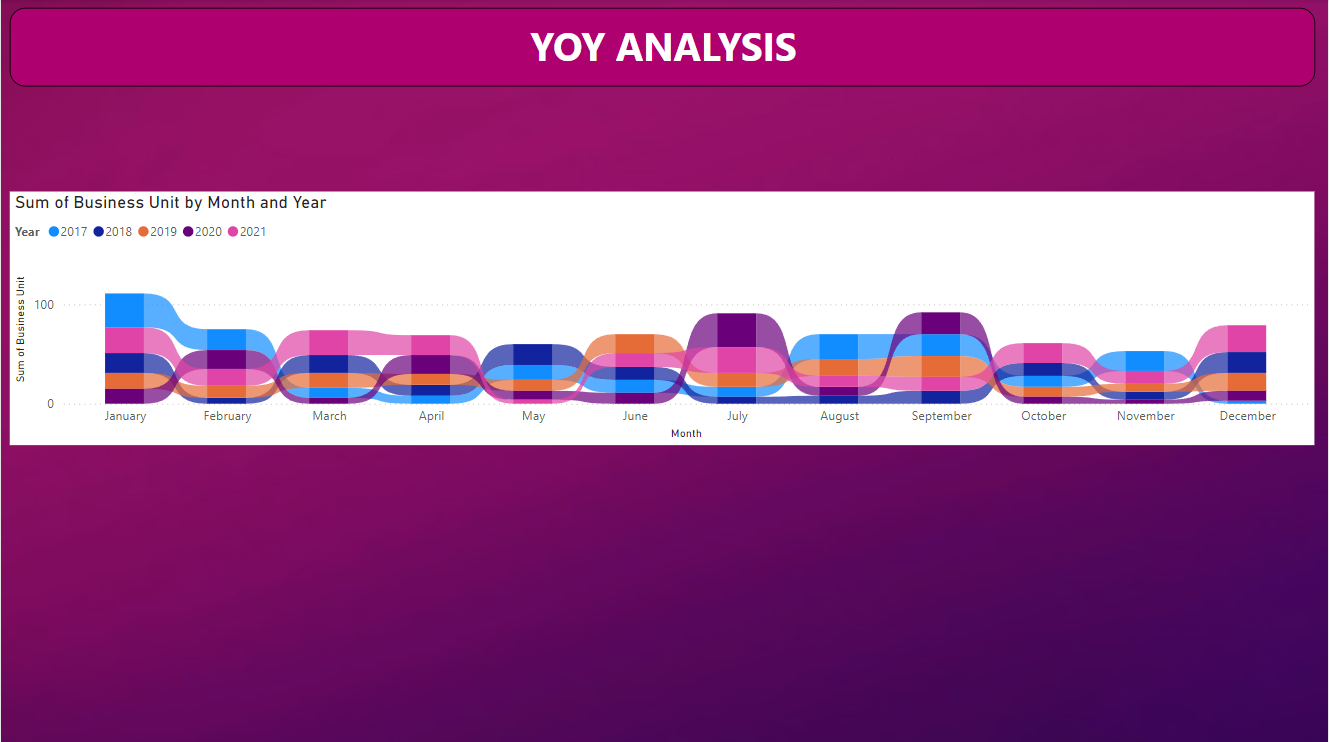

The dashboard page shown, as its layout file describes it:
{"tool":"powerbi","page":{"name":"YOY","canvas":[1280,720],"ordinal":1},"visuals":[{"type":"textbox","box":[8.4,8.4,1260.3,76],"z":0},{"type":"ribbonChart","fields":{"Y":["Sum(EMPData.Business Unit)"],"Series":["EMPData.Hire Date.Variation.Date Hierarchy.Year"],"Category":["EMPData.Hire Date.Variation.Date Hierarchy.Month"]},"box":[8.4,185.7,1259.1,244.8],"z":1000}]}

Visuals, with their boxes in screenshot pixels (x1, y1, x2, y2), scaled from the page's 1280x720 canvas onto the 1329x742 screenshot:
textbox: 9 9 1317 87
ribbonChart - Sum(EMPData.Business Unit) x EMPData.Hire Date.Variation.Date Hierarchy.Year: 9 191 1316 444
